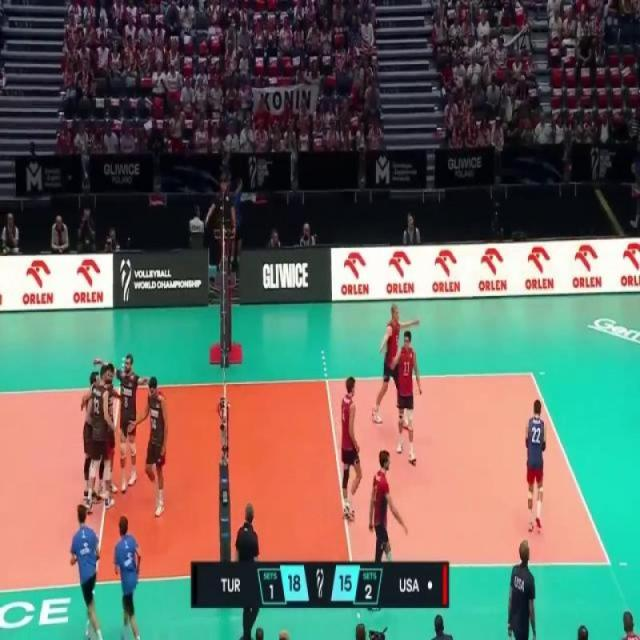volleyball: (532, 132, 542, 144)
